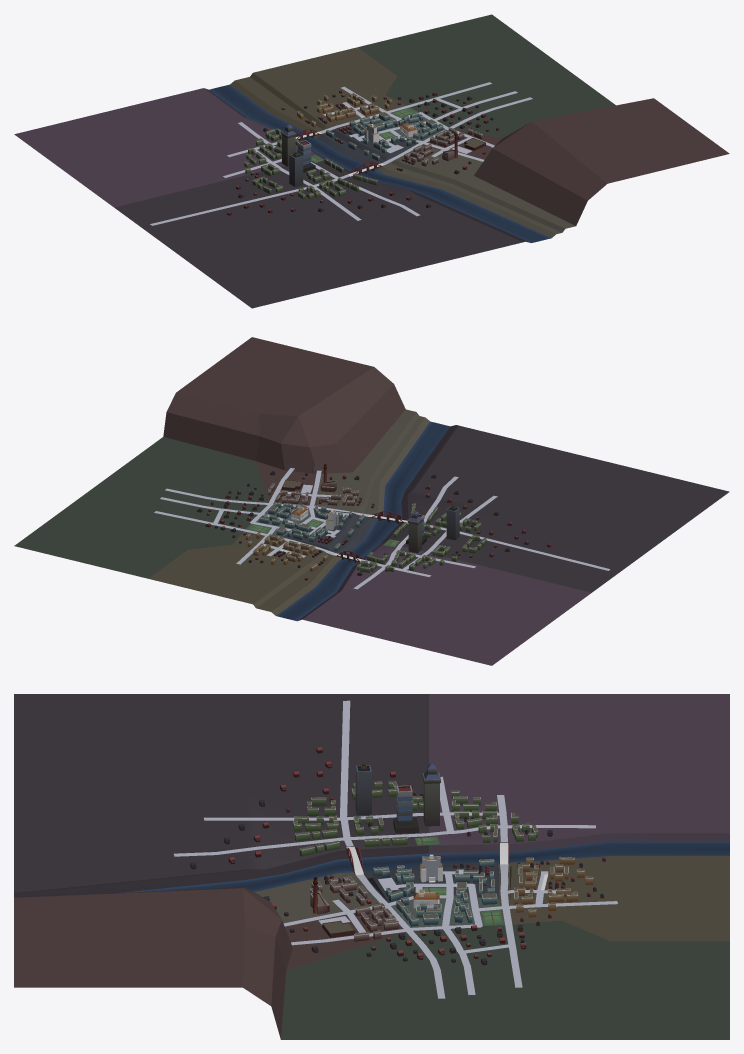
File: City 1.fbx
3 views of the same model, one above another, from view 1: azimuth 30°, elevation 25°; view 2: azimuth 150°, elevation 25°; view 3: azimuth 270°, elevation 25° (orthographic). The views are drawn at different scales.
Visible parts, largest first — view 1: Ground.001; view 2: Ground.001; view 3: Ground.001.
Boxes of the visible parts, box(x1,y1,x2,y2) form: Ground.001: box(14, 14, 729, 308); Ground.001: box(14, 337, 729, 665); Ground.001: box(14, 694, 729, 1039).
Bounding box in the file's own units: 22804 × 2206 × 19668.
